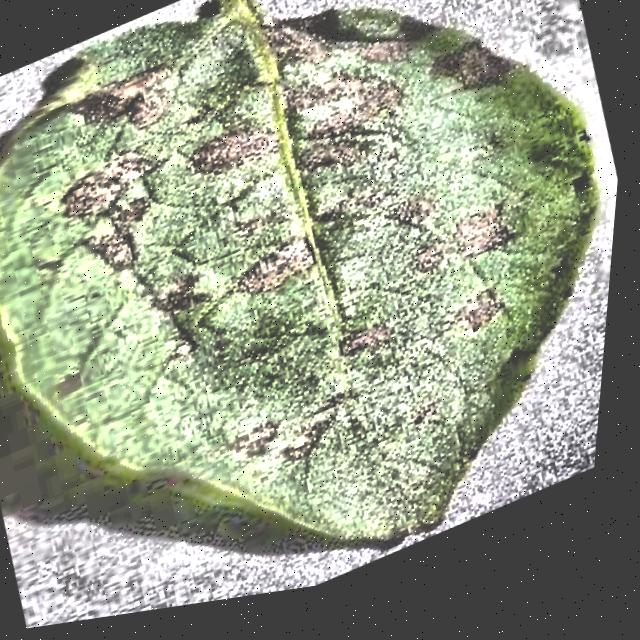Potato_leaf_early_blight: (0, 0, 599, 540)
